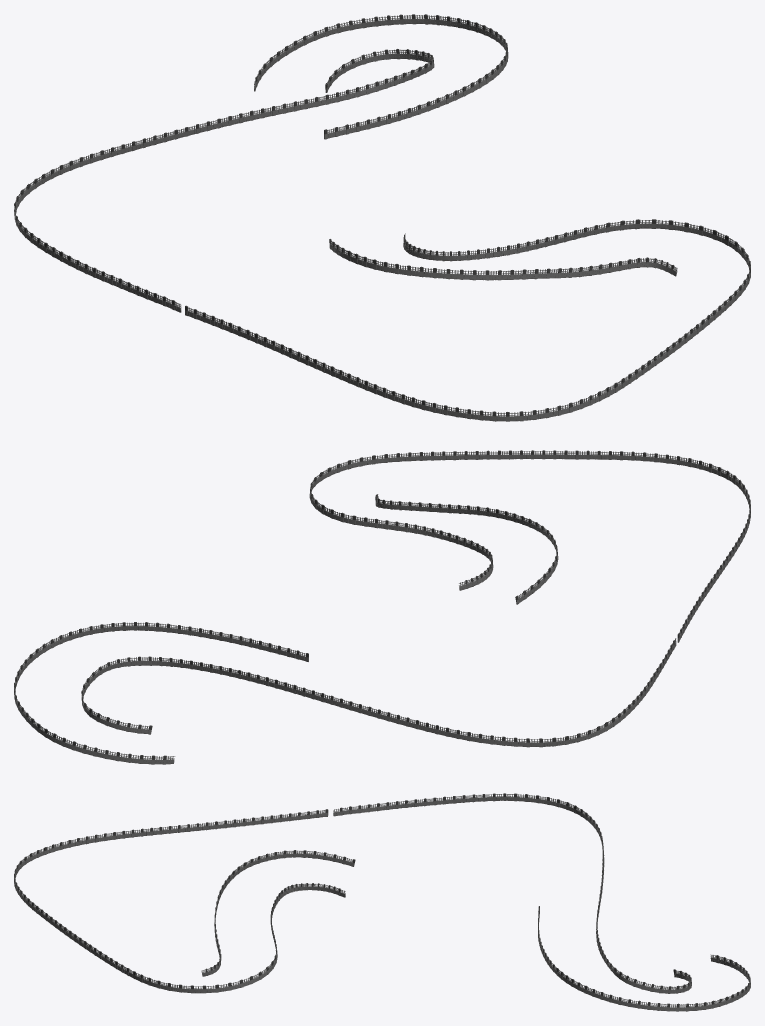
Rendered from Allpagar.fbx.
3 views of the same model, one above another, from view 1: azimuth 30°, elevation 25°; view 2: azimuth 150°, elevation 25°; view 3: azimuth 270°, elevation 25° (orthographic). The views are drawn at different scales.
Parts seen in each view (by area): view 1: Besi Pagar.002; view 2: Besi Pagar.002; view 3: Besi Pagar.002.
Boxes of the visible parts, <box> form: Besi Pagar.002: <box>14,14,750,421</box>; Besi Pagar.002: <box>14,450,750,764</box>; Besi Pagar.002: <box>14,793,750,1011</box>.
Bounding box in the file's own units: 28635 × 3432 × 42077.
